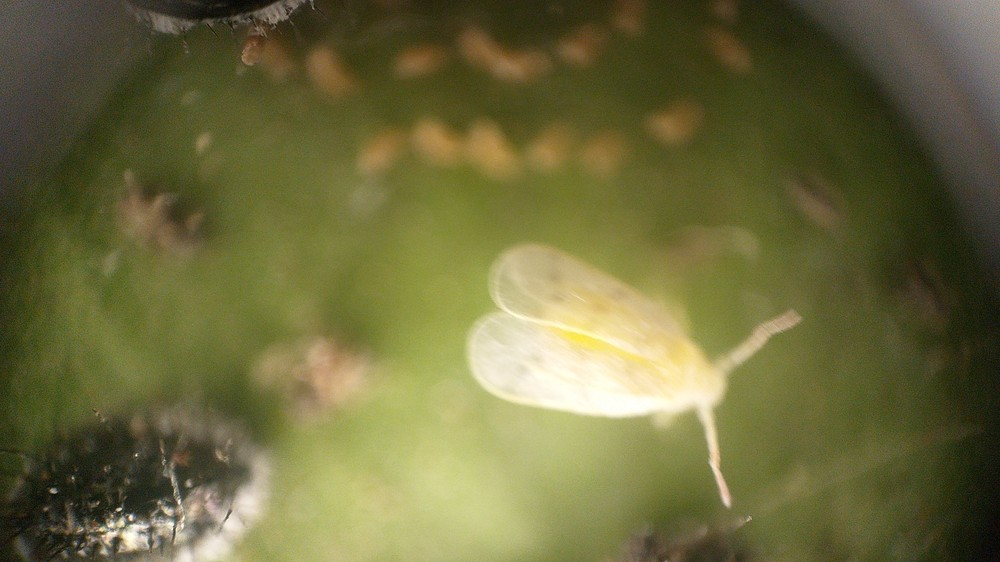Mosca Blanca: (458, 235, 823, 519)
